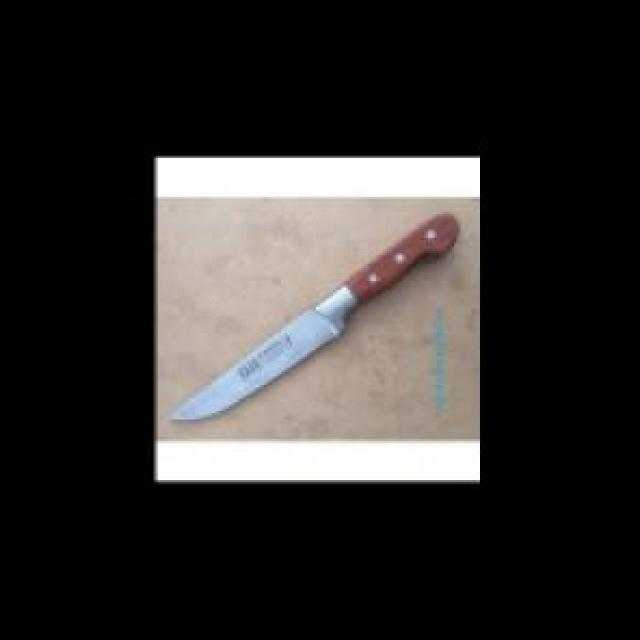knife: (156, 205, 465, 432)
